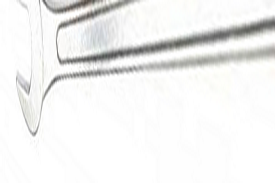Wrench: (19, 1, 274, 140)
